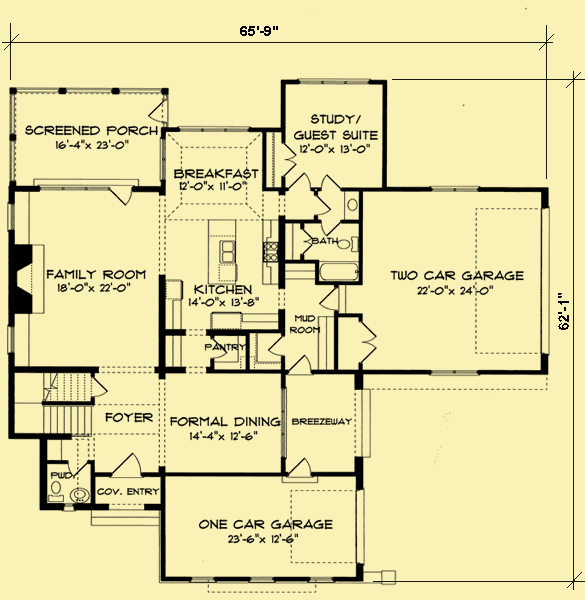door: (112, 453, 143, 481), (359, 321, 377, 364), (277, 141, 297, 177), (106, 184, 134, 207), (288, 353, 313, 376), (287, 456, 313, 477), (308, 195, 333, 216), (289, 171, 313, 191), (299, 225, 314, 257), (318, 286, 338, 310), (265, 334, 285, 356), (319, 173, 343, 190)
large_sink: (332, 235, 359, 254), (47, 480, 67, 502)
small_sink: (342, 190, 362, 222), (69, 484, 90, 505)
stairs: (37, 371, 93, 433)
tub: (317, 259, 359, 284)
twin_sink: (215, 239, 237, 263)
window: (297, 74, 373, 88), (173, 123, 252, 134), (38, 183, 107, 193), (2, 204, 15, 233), (427, 370, 478, 376), (7, 323, 14, 354), (427, 187, 478, 191)
